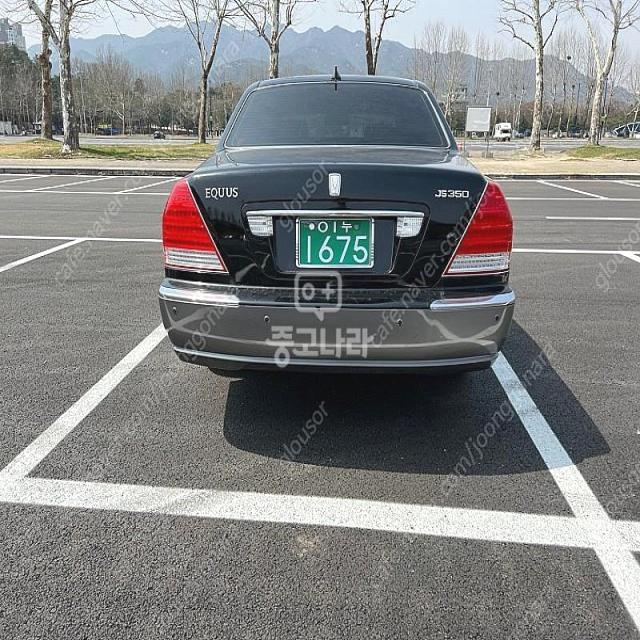car: (154, 66, 518, 387)
illegal_plate: (292, 213, 378, 273)
